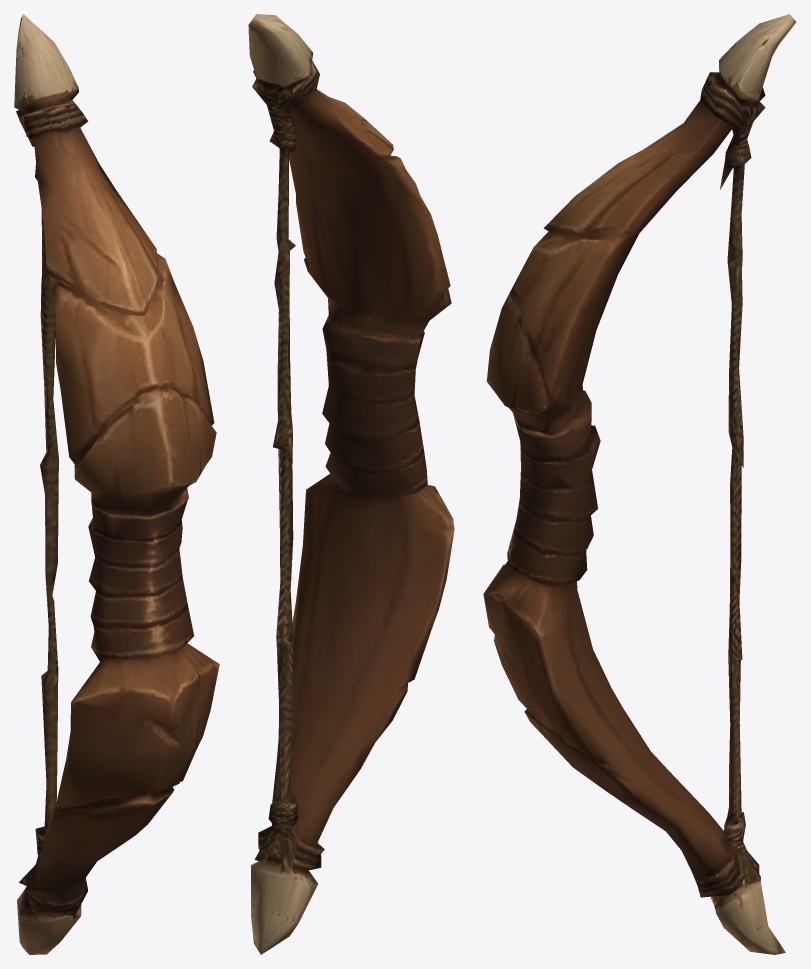
The model's file is model-prop-forgotten-bow-01.glb.
3 views of the same model, side by side, from view 1: azimuth 30°, elevation 25°; view 2: azimuth 150°, elevation 25°; view 3: azimuth 270°, elevation 25° (orthographic).
Visible parts, largest first — view 1: tripo_node_0b6362e6-388a-4e4c-bb56-0c3981eac981; view 2: tripo_node_0b6362e6-388a-4e4c-bb56-0c3981eac981; view 3: tripo_node_0b6362e6-388a-4e4c-bb56-0c3981eac981.
Boxes of the visible parts, <box> form: tripo_node_0b6362e6-388a-4e4c-bb56-0c3981eac981: <box>14,14,219,954</box>; tripo_node_0b6362e6-388a-4e4c-bb56-0c3981eac981: <box>248,14,454,954</box>; tripo_node_0b6362e6-388a-4e4c-bb56-0c3981eac981: <box>483,14,796,954</box>.
Bounding box in the file's own units: 0.1412 × 0.85 × 0.2566.
1 material, 1 textured.
